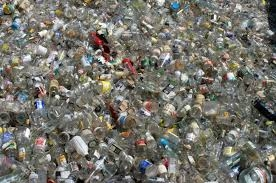plastic: (88, 28, 115, 61), (70, 134, 94, 162), (133, 156, 160, 177), (31, 94, 48, 119), (107, 142, 130, 160), (32, 135, 49, 155)
